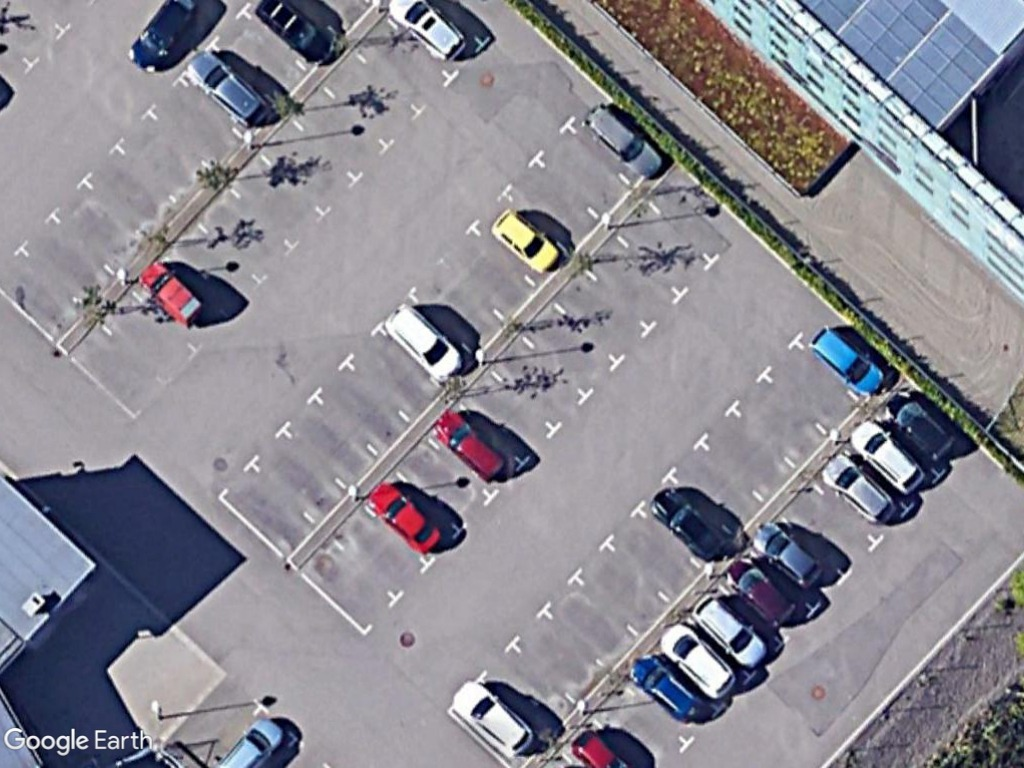car: (581, 95, 669, 183), (187, 46, 275, 134), (450, 673, 537, 759), (688, 587, 770, 673), (805, 320, 890, 399), (848, 416, 929, 498), (386, 298, 466, 381), (362, 476, 444, 556), (880, 381, 959, 464), (647, 482, 727, 563), (627, 649, 710, 727), (819, 450, 901, 528), (431, 408, 513, 486), (661, 619, 739, 699), (125, 0, 202, 76), (748, 518, 826, 592), (490, 204, 566, 279), (720, 555, 794, 631)
other: (138, 254, 208, 328)
